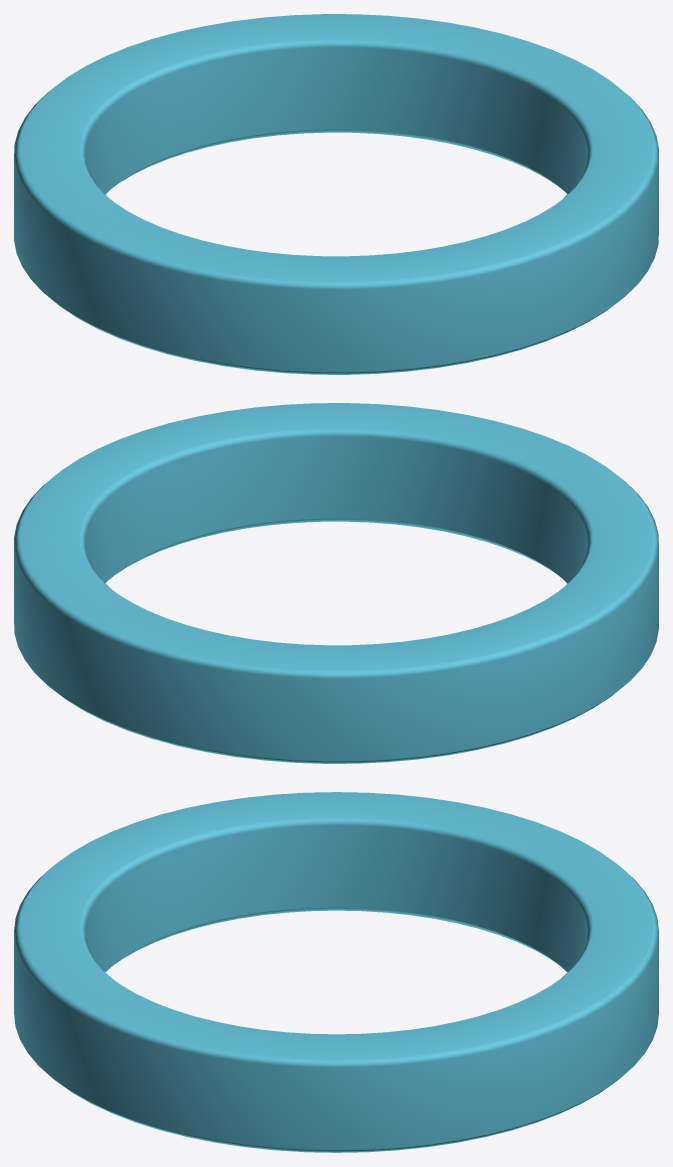
The picture shows the model from 3 angles, top to bottom: view 1: azimuth 30°, elevation 25°; view 2: azimuth 150°, elevation 25°; view 3: azimuth 270°, elevation 25°; orthographic projection.
Visible parts, largest first — view 1: seal_body; view 2: seal_body; view 3: seal_body.
Part boxes in pixels (box(x1,y1,x2,y2)): seal_body: box(14, 14, 658, 374); seal_body: box(14, 403, 658, 763); seal_body: box(14, 792, 658, 1152).
Size of the model in its own units: 0.045 by 0.0072 by 0.045.
